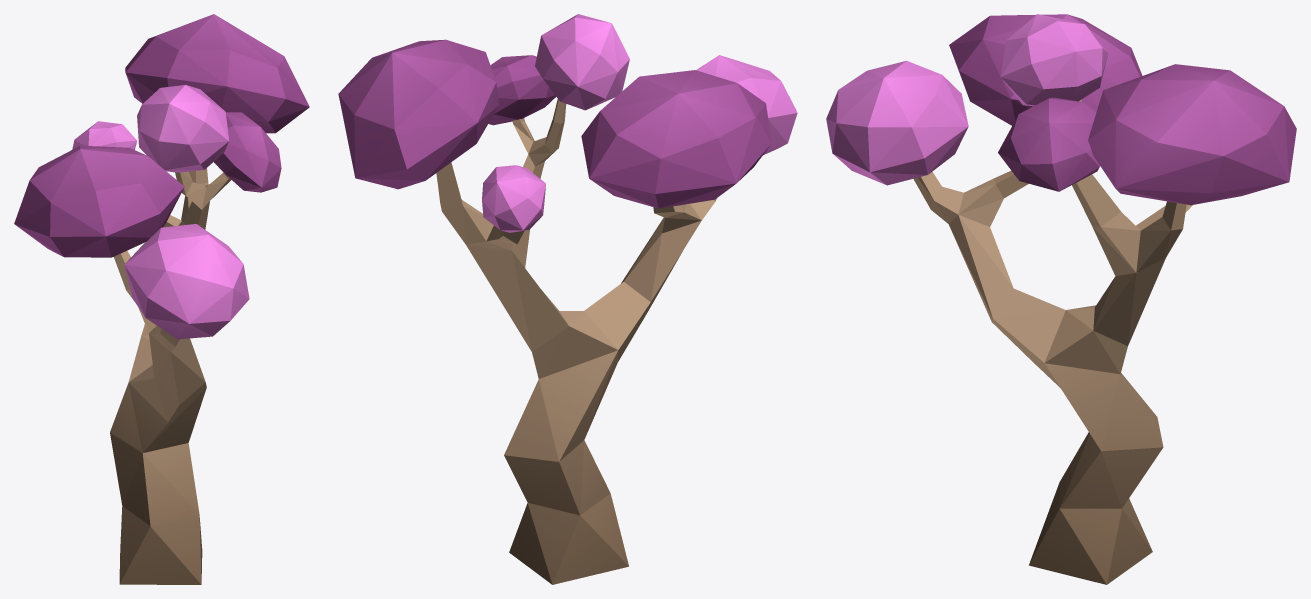
The model's file is SpringTree4.fbx.
The picture shows the model from 3 angles, left to right: view 1: azimuth 30°, elevation 25°; view 2: azimuth 150°, elevation 25°; view 3: azimuth 270°, elevation 25°; orthographic projection. The views are drawn at different scales.
Visible parts, largest first — view 1: SpringTree4; view 2: SpringTree4; view 3: SpringTree4.
Part boxes in pixels (bbox=[...]): SpringTree4: bbox=[14, 14, 309, 584]; SpringTree4: bbox=[338, 14, 797, 584]; SpringTree4: bbox=[826, 14, 1296, 584].
Size of the model in its own units: 285 by 429 by 337.
